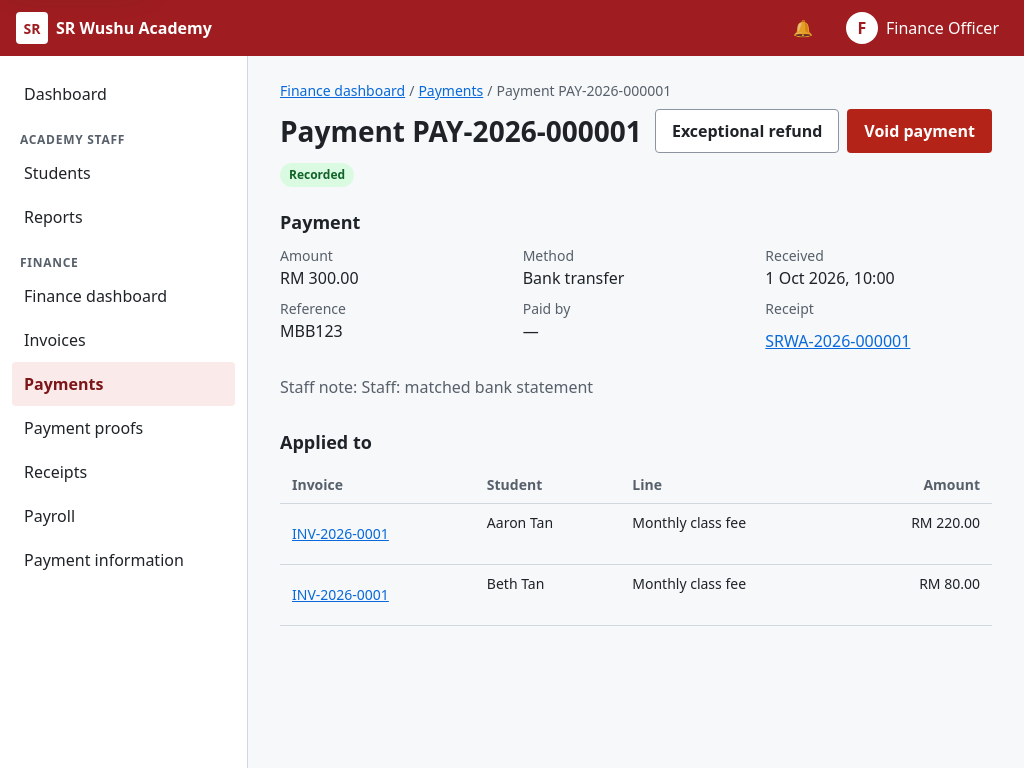
recording payments › payment detail: allocation, receipt, and exceptional refund with a required reason
Expected: the heading "Payment PAY-2026-000001" is shown, [280,114,642,148]
Expected: the table named "Where this payment was applied" shows "Beth Tan", [487,574,544,593]
Click the button "Exceptional refund" at (747,131), box [655,109,839,153]
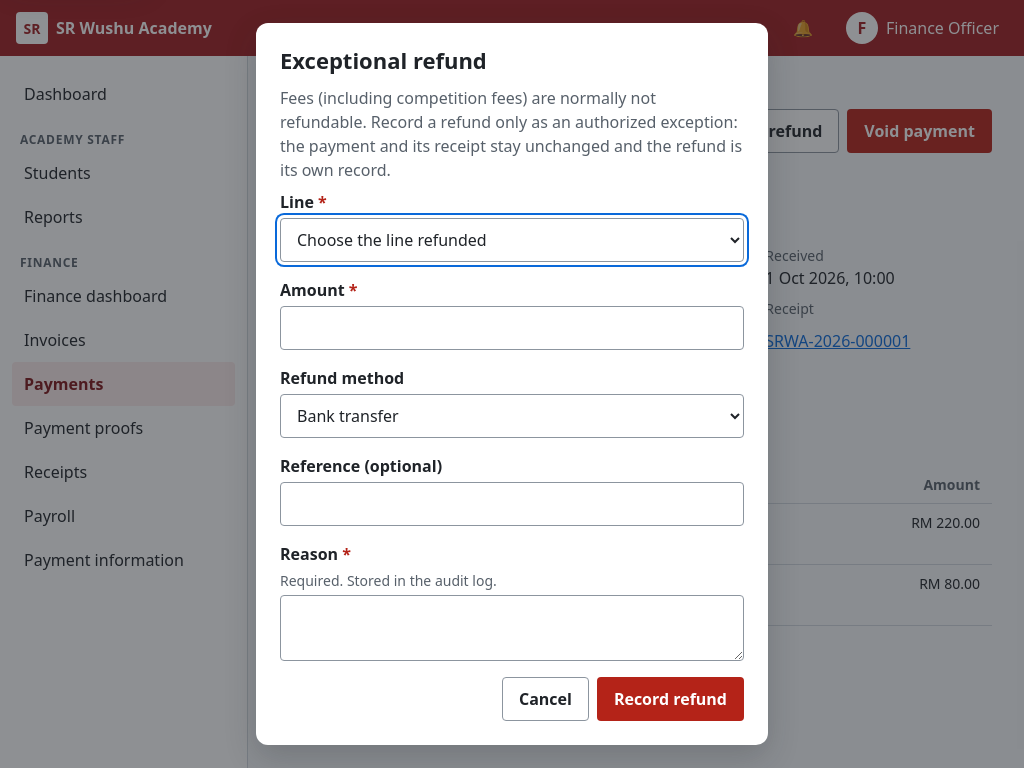
Now the dialog "Exceptional refund" shows "normally not refundable", box [280,87,742,181]
Select "INV-2026-0001 · Aaron Tan · 220.00" in the dropdown labelled "Line *" at (512,240), box [280,218,744,262]
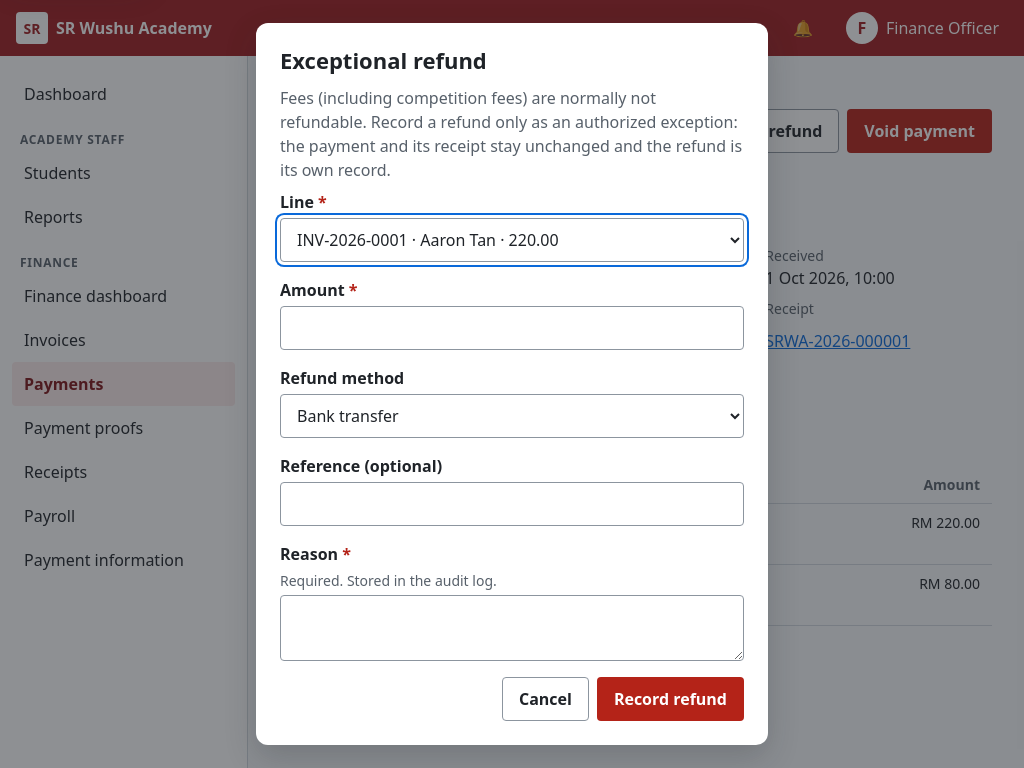
Type "10.00" into the field labelled "Amount *" at (512,328), box [280,306,744,350]
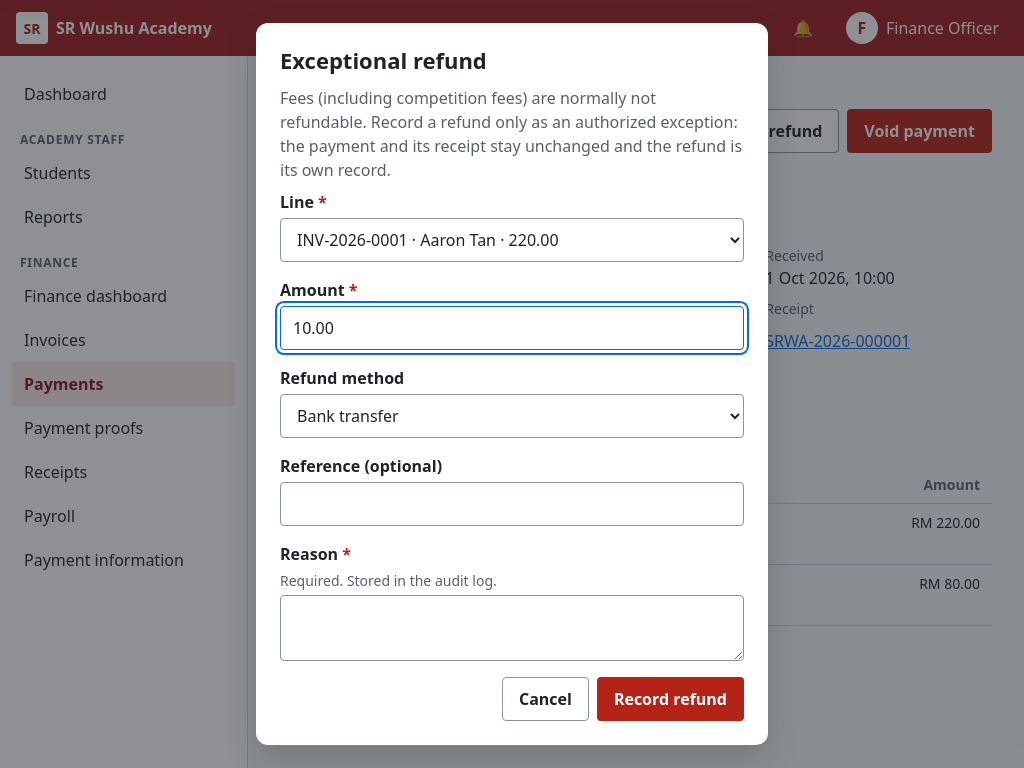
Type "Exceptional: duplicate fee" into the text box labelled "Reason *" at (512,628), box [280,595,744,661]
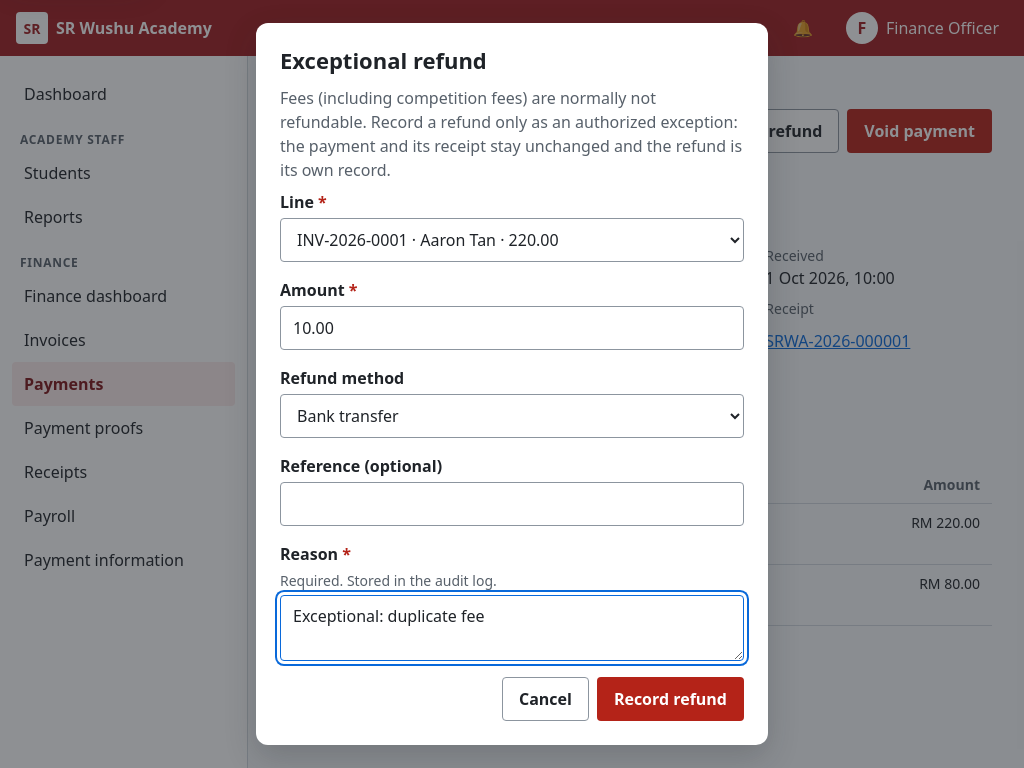
Click the button "Record refund" at (670,699), box [597,677,744,721]
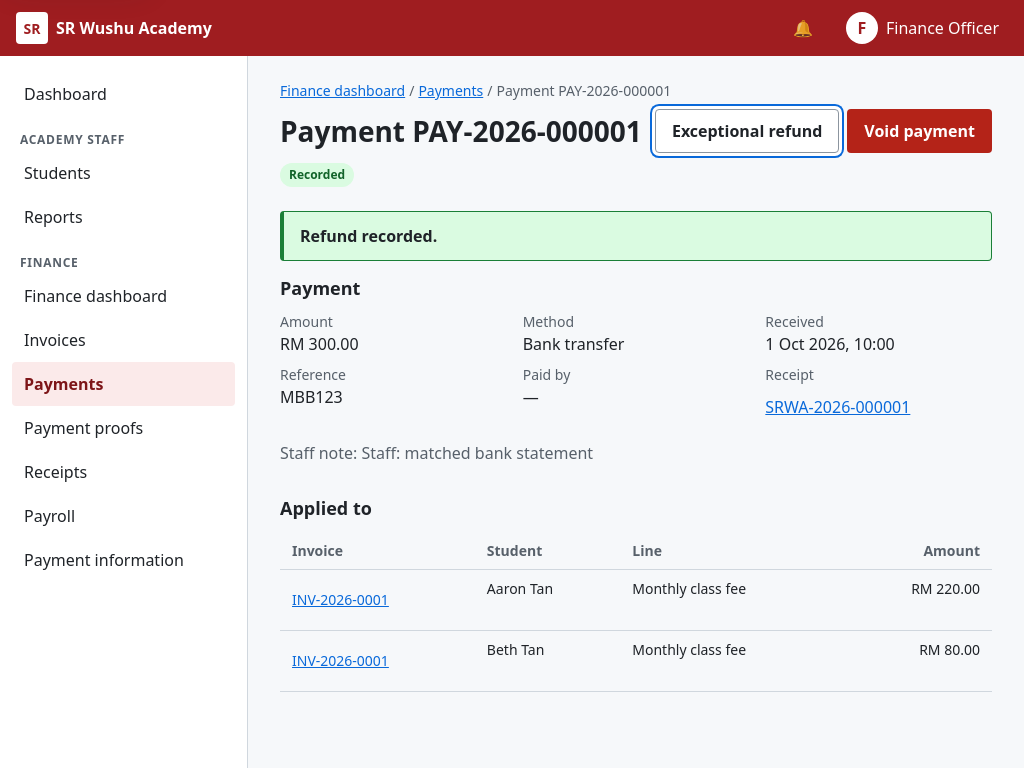
Now the text "Refund recorded." is shown, box [300,225,437,247]
